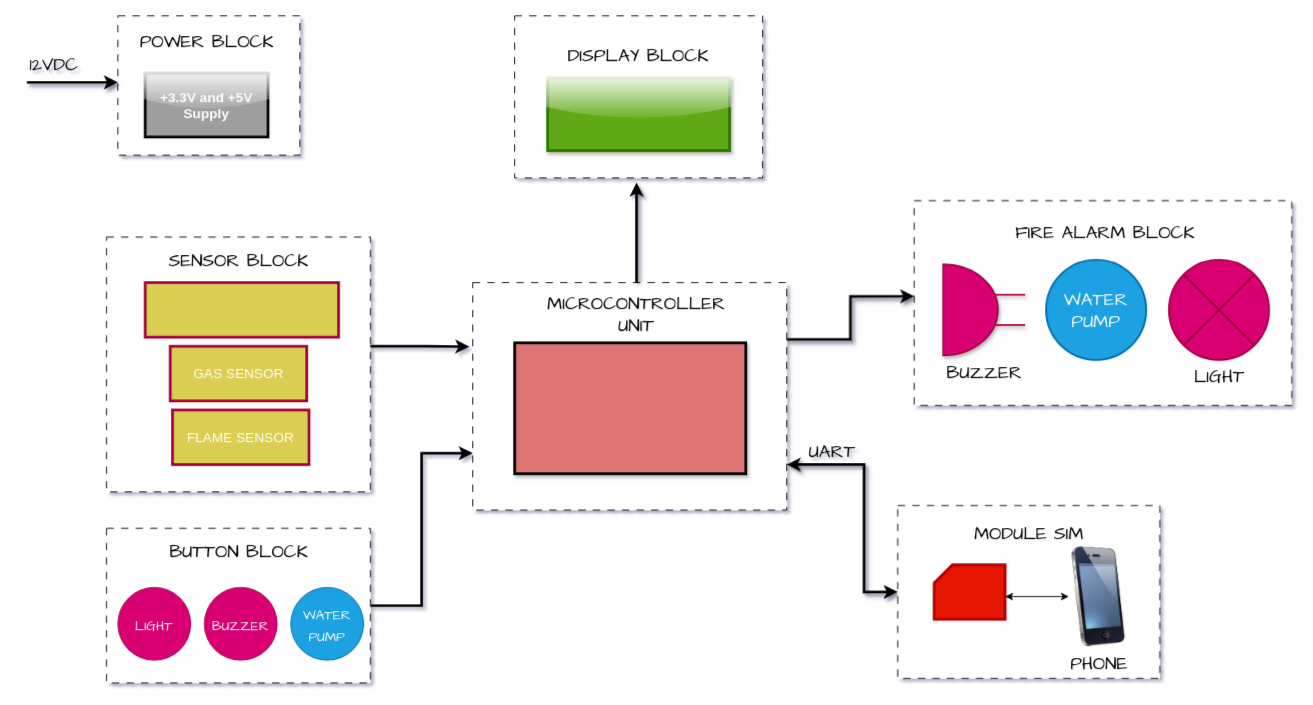
The diagram is 1313 pixels wide and 705 high, and some of its shapes have lost their labels. Here are the shapes that lost their labels. From the top down, the centre of each, then its label:
pixel 639 115: LCD DISPLAY
pixel 241 309: TEMPERATURE & HUMID SENSOR
pixel 630 409: STM32F103RCT6
pixel 969 591: SIM
